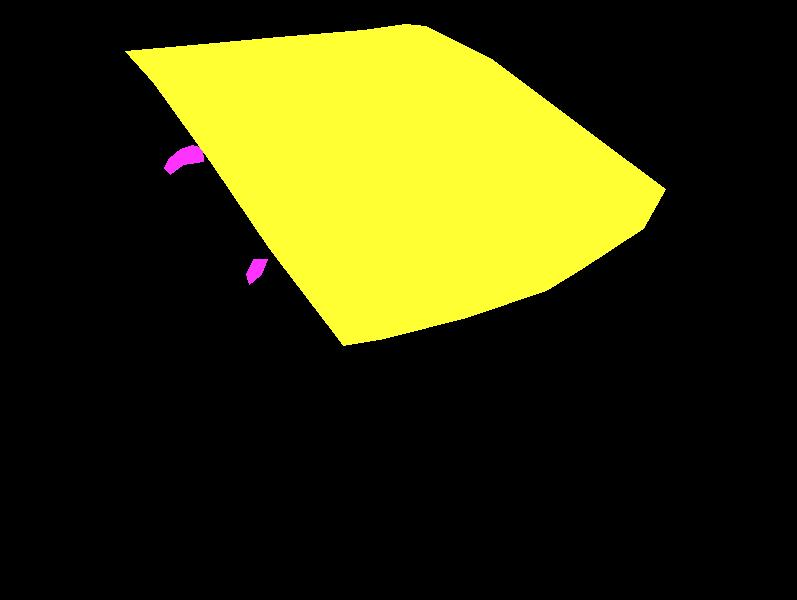Cracked: (125, 24, 665, 345)
Dent: (164, 145, 203, 174), (246, 259, 267, 284)
Scratch: (169, 154, 197, 170)
